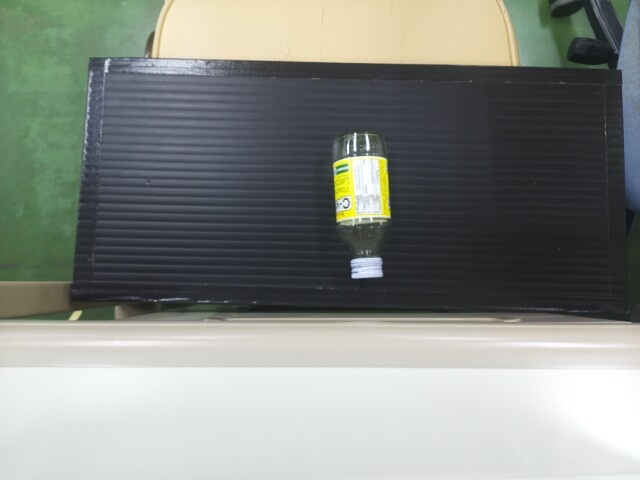glass_bottle: (328, 130, 392, 280)
